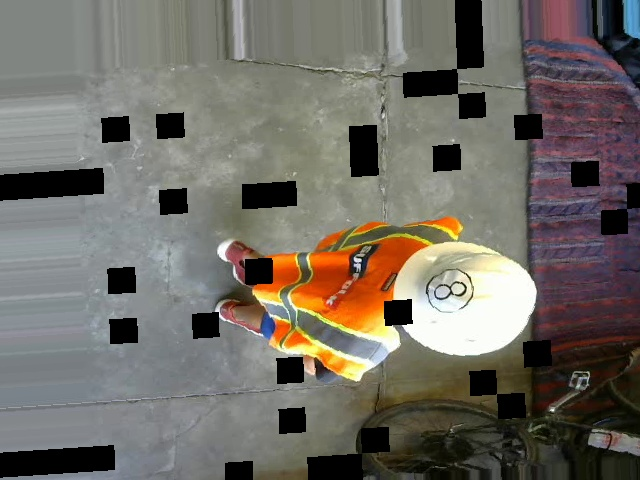eight: (425, 267, 475, 315)
